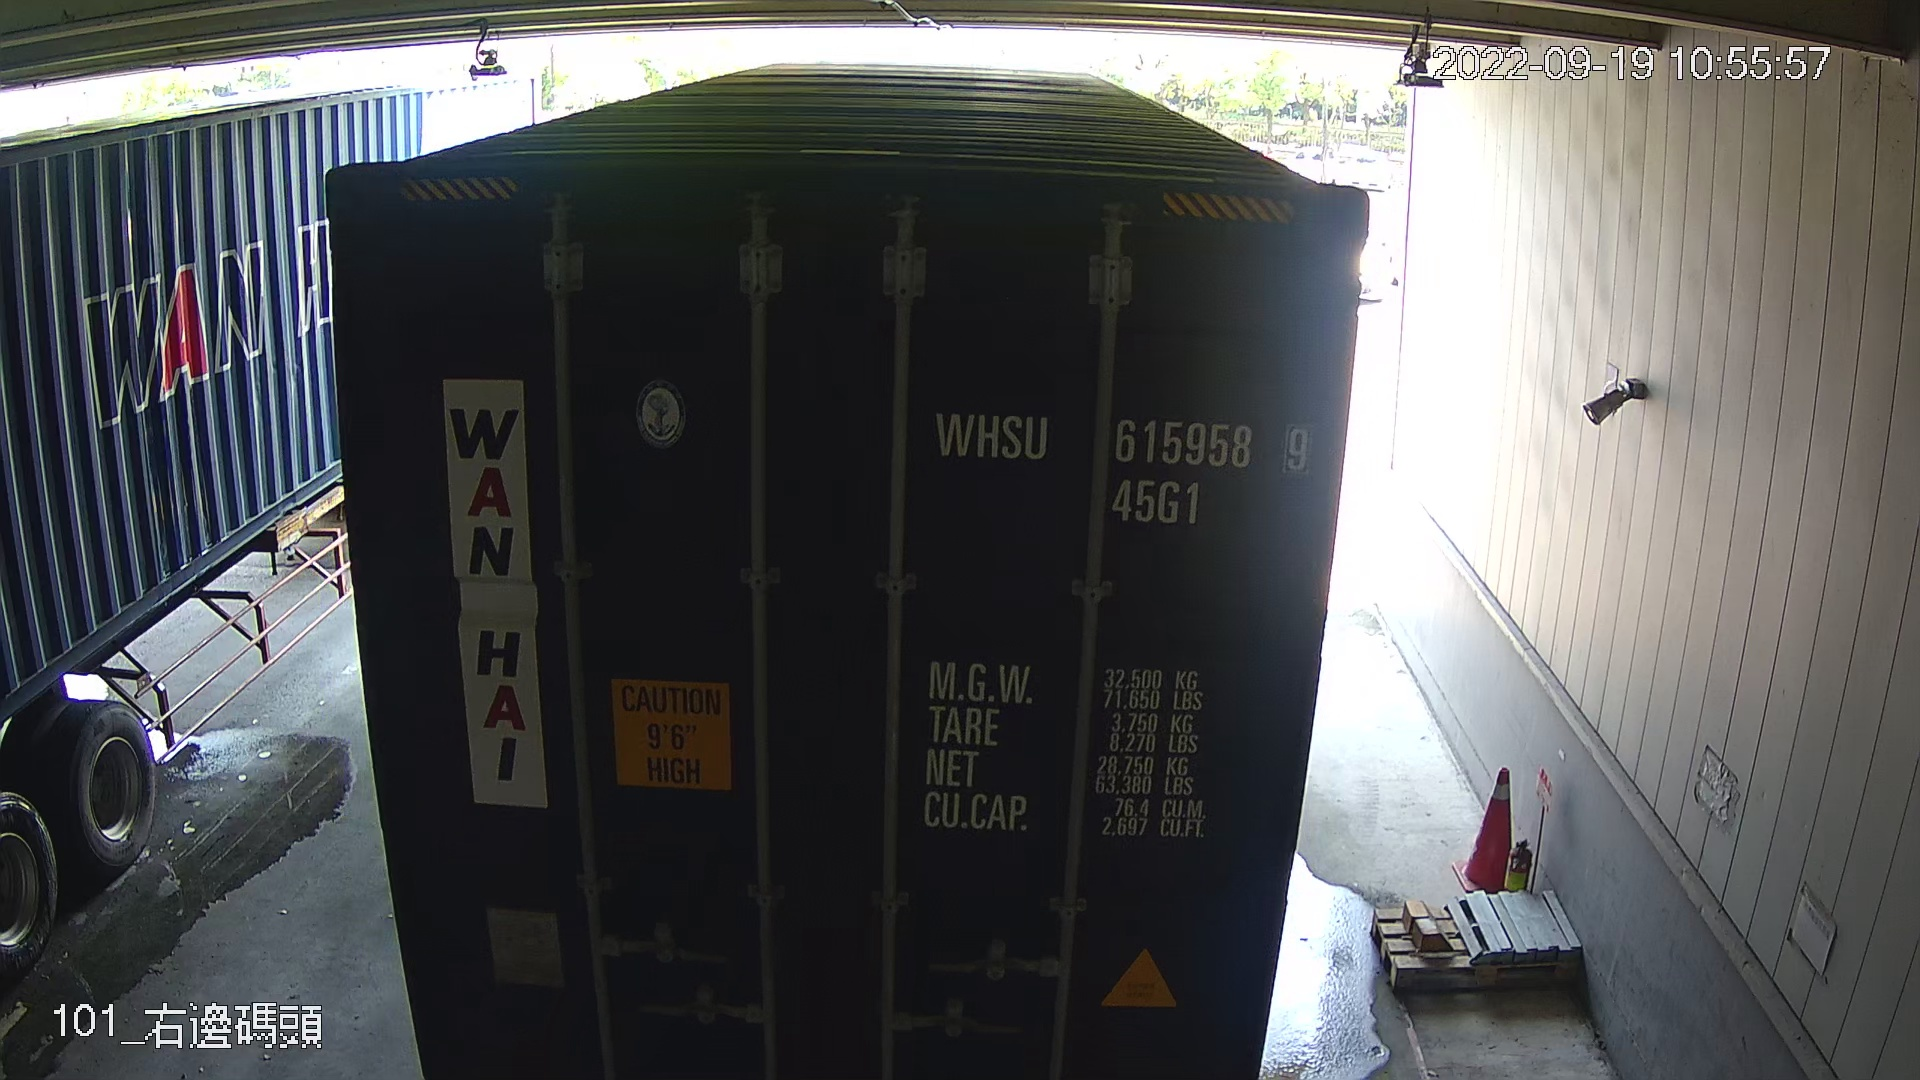container: (928, 392, 1320, 531)
